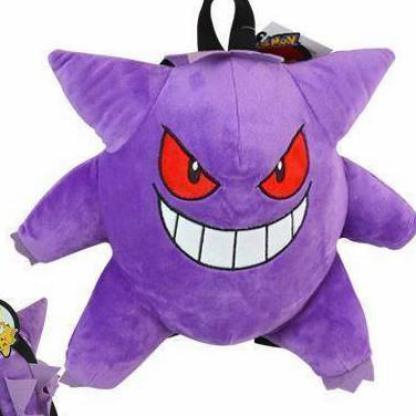Gengar: (22, 41, 412, 393)
